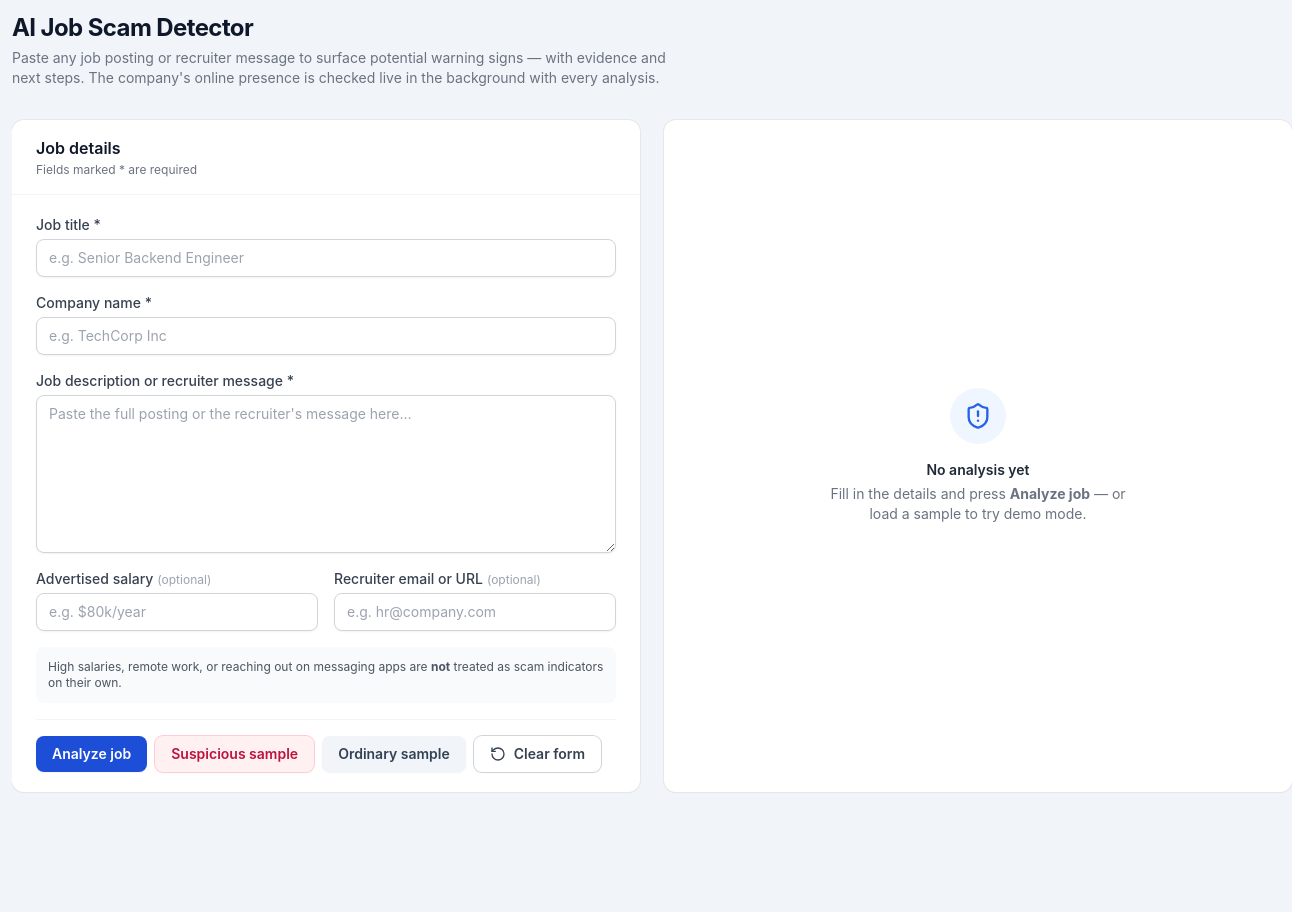
JobAnalyzer › clears the form
The width and height of the screenshot is (1292, 912).
Step 1. Click the button "Suspicious sample" → (235, 754), box x1=155 y1=736 x2=314 y2=772
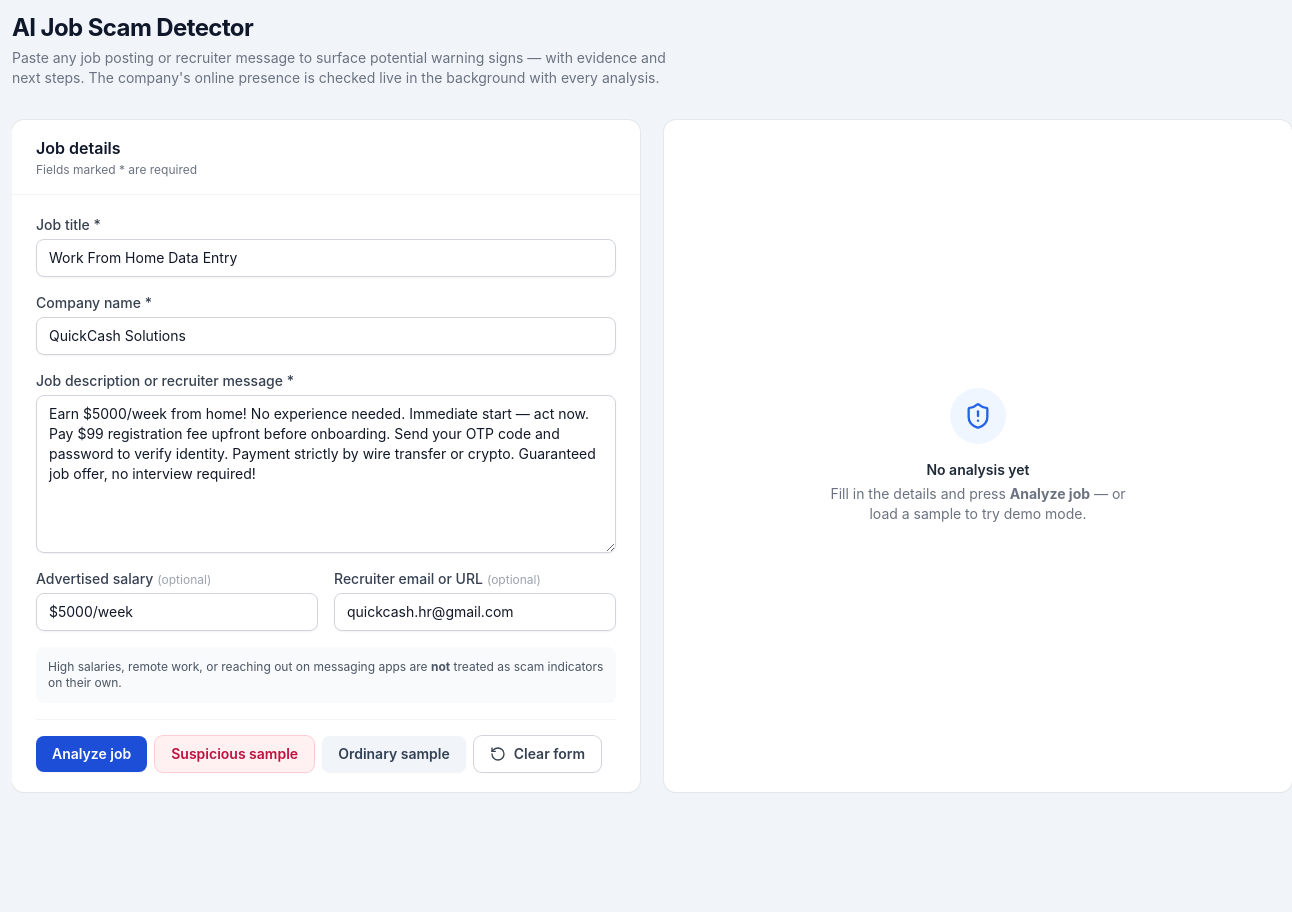
Step 2. Click the button "Clear form" → (537, 754), box x1=474 y1=736 x2=601 y2=772
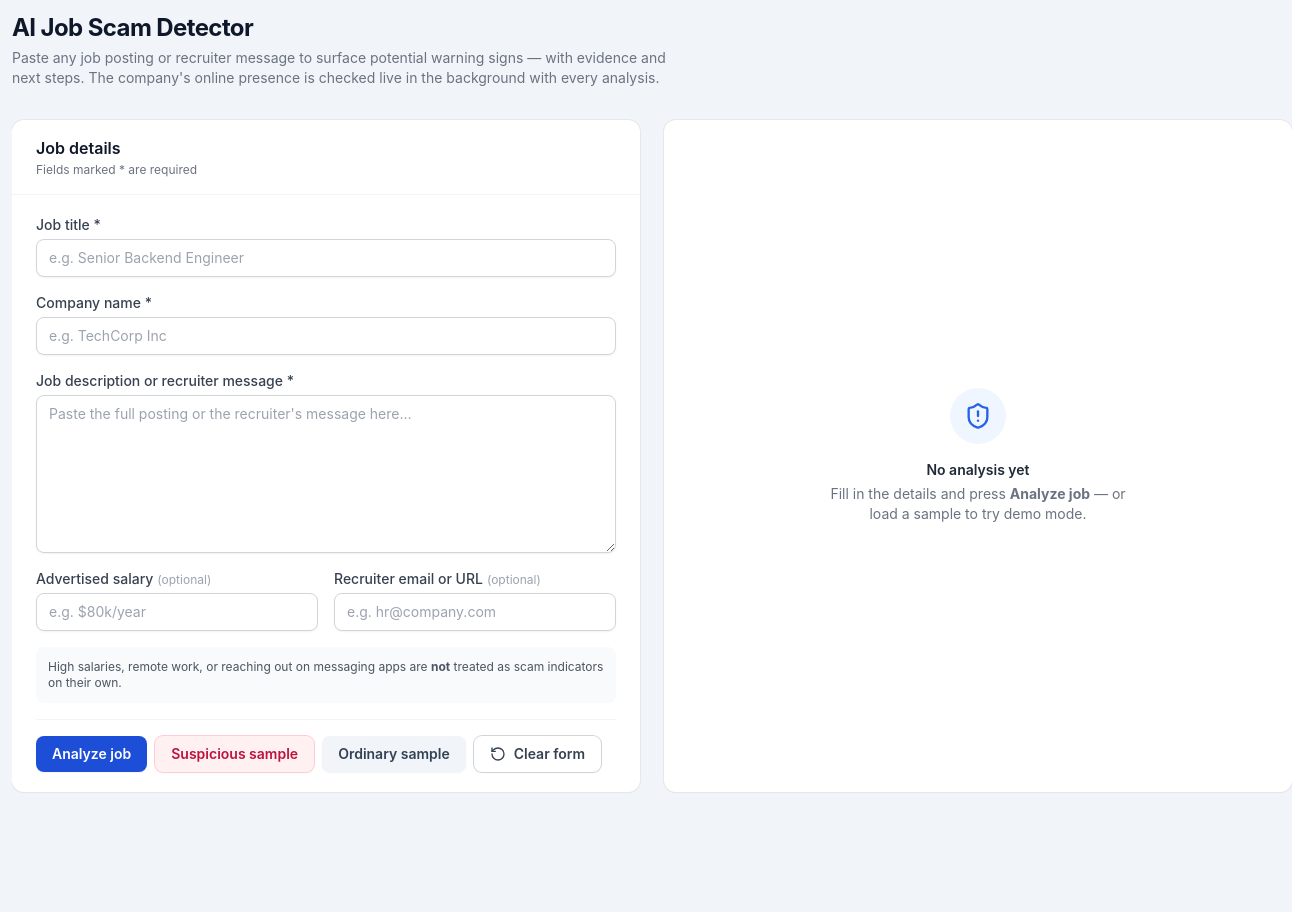
Expected: the field labelled "Job title *" is empty, x1=36 y1=239 x2=616 y2=277
